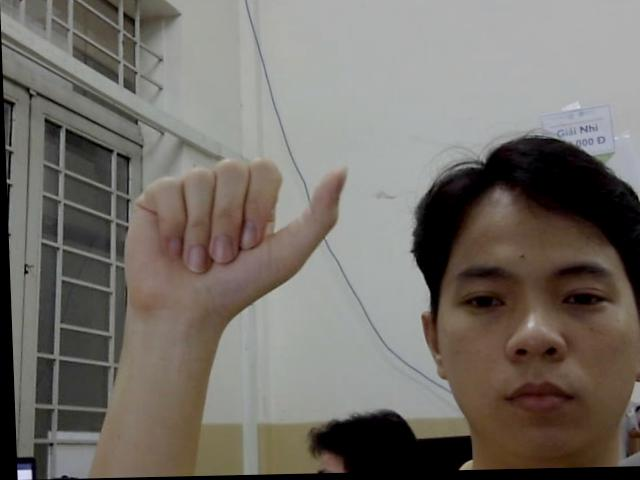A: (117, 158, 352, 304)
